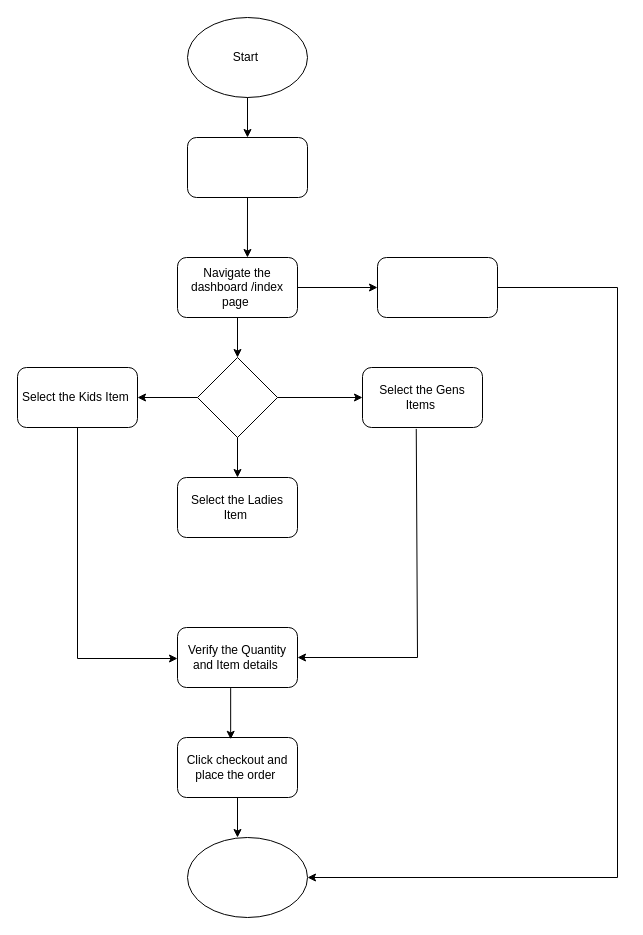
The diagram is 643 pixels wide and 935 high, and some of its shapes have lost their labels. Here are the shapes that lost their labels. From the top down, the centre of each, then its label:
At (247,167): "Login the system".
At (437,287): "Contact us".
At (237,397): "Select the option".
At (247,877): "End".
